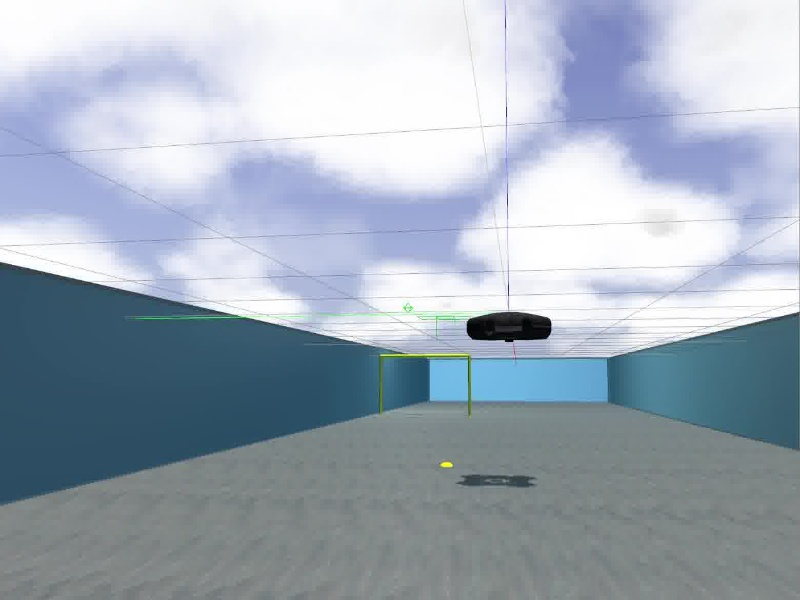gate: (379, 353, 471, 413)
